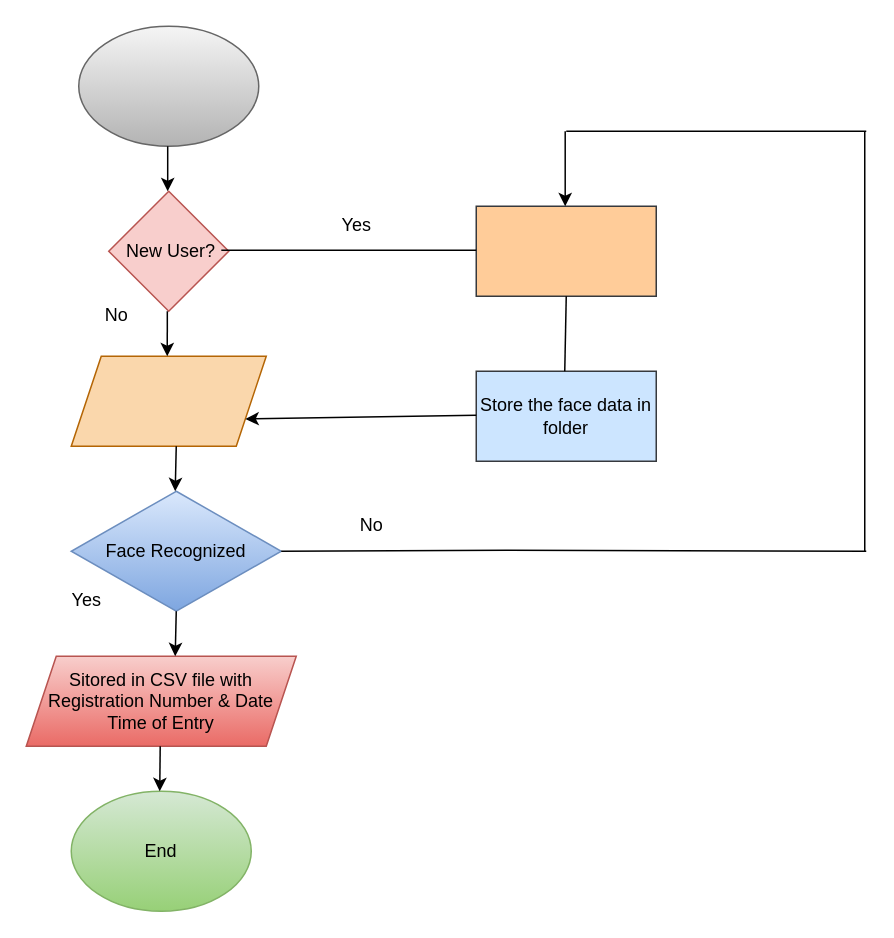
This 894x938 diagram has some shape labels left out. The centre of each missing label's shape, as x and y in pixels:
"Give your Photograph" belongs at pixel 565 250.
"Recognize the face" belongs at pixel 168 400.
"Start" belongs at pixel 168 85.
